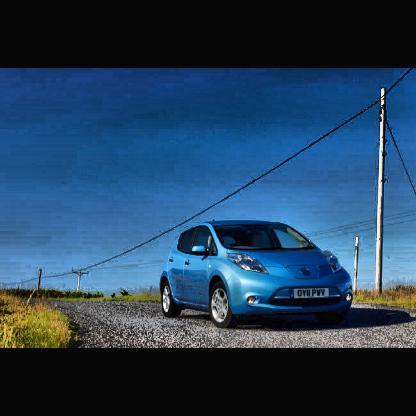Nissan Leaf Hatchback 2012: (158, 218, 359, 332)
